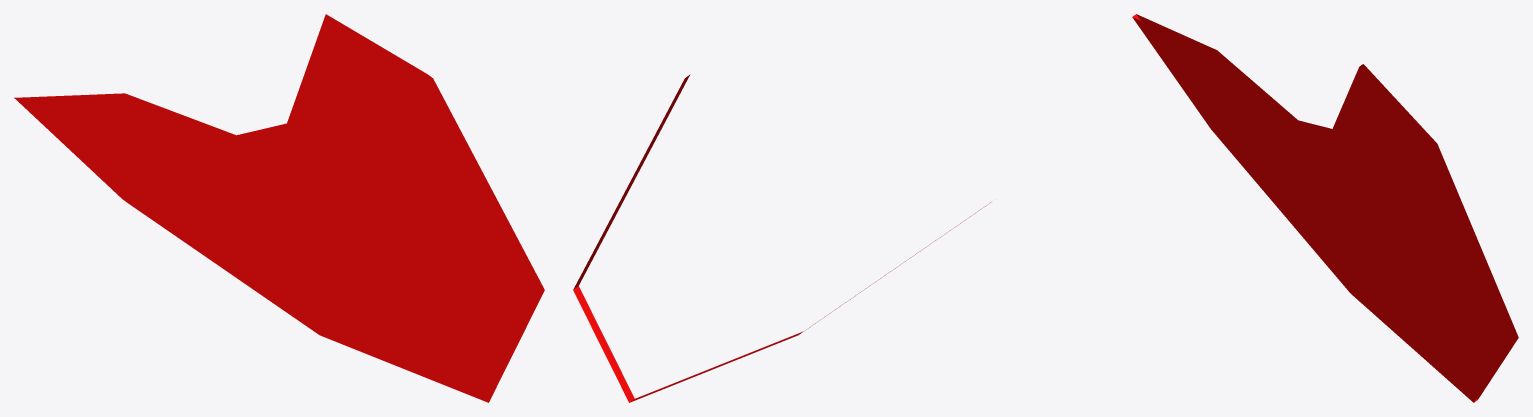
3 renders of one model, left to right at view 1: azimuth 30°, elevation 25°; view 2: azimuth 150°, elevation 25°; view 3: azimuth 330°, elevation 25°, orthographic. The views are drawn at different scales.
Parts seen in each view (by area): view 1: Group__Geometry_0; view 2: Group__Geometry_0; view 3: Group__Geometry_0.
Boxes of the visible parts, <box> form: Group__Geometry_0: <box>14,14,544,402</box>; Group__Geometry_0: <box>573,74,990,402</box>; Group__Geometry_0: <box>1132,14,1518,402</box>.
Size of the model in its own units: 265 by 204 by 5.
